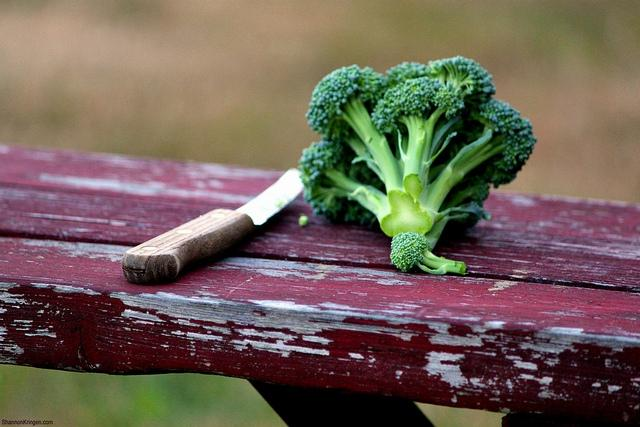broccoli: (296, 54, 538, 249), (390, 232, 470, 275)
